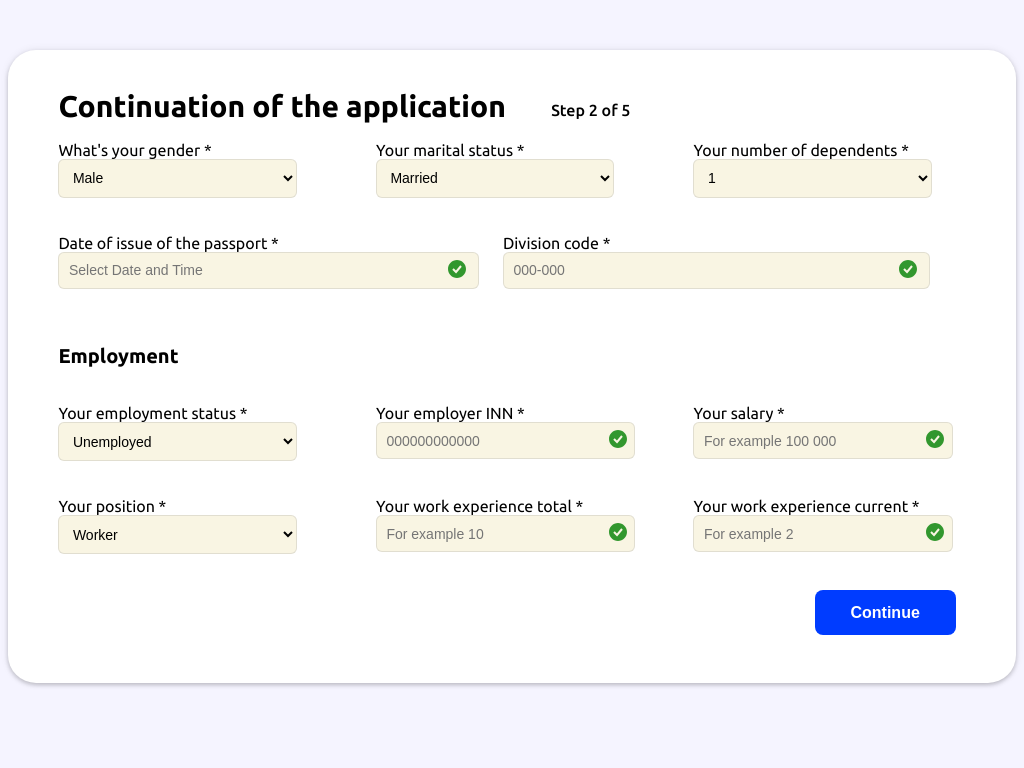
Scoring component › with invalid status › renders the status validation error
Select "123" in the dropdown labelled "Your marital status *" at x=495, y=178, box left=376, top=159, right=614, bottom=198
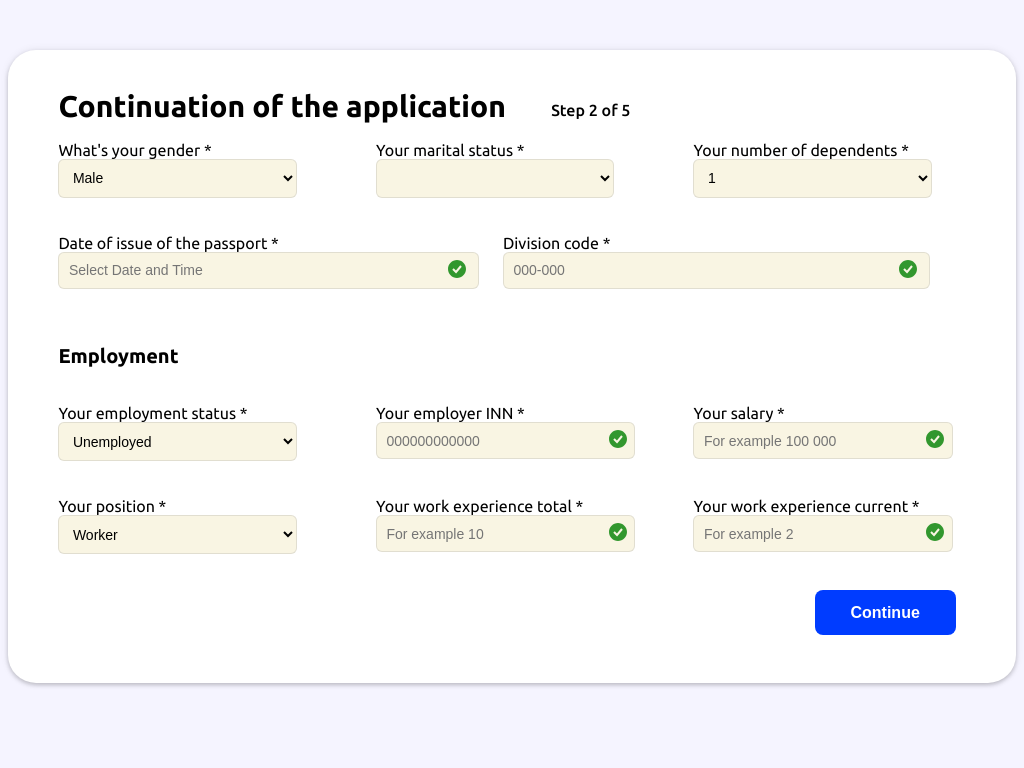
Leave the dropdown labelled "Your marital status *", box left=376, top=159, right=614, bottom=198
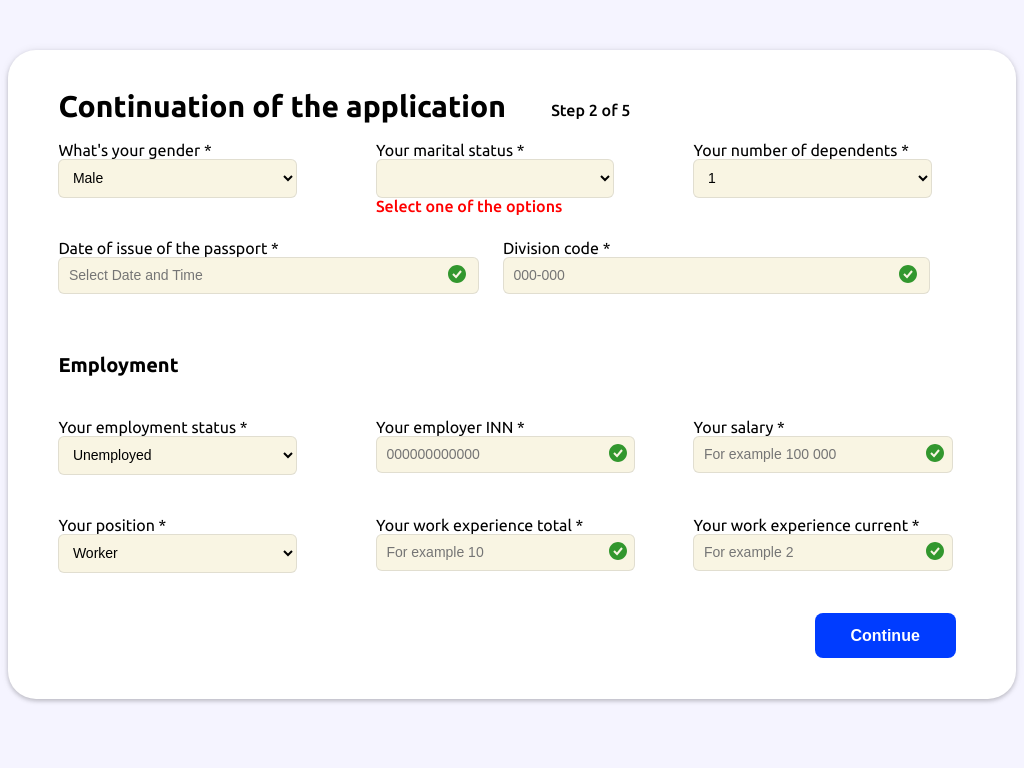
Expected: the text "Select one of the options" is shown, left=376, top=197, right=562, bottom=215
